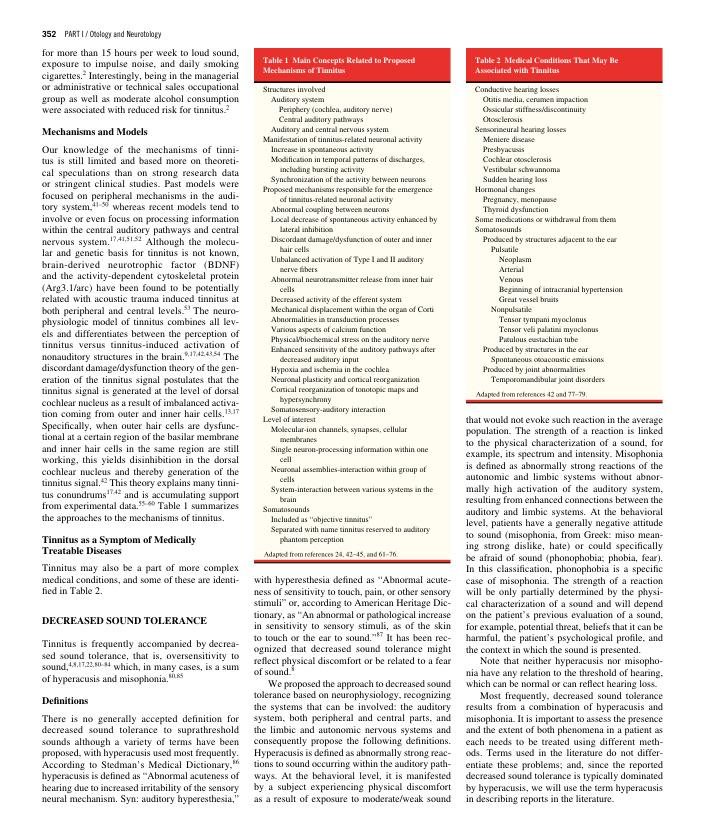caption: (262, 55, 417, 75), (474, 56, 619, 74)
header: (64, 29, 162, 40)
section-heading: (40, 615, 208, 627)
sub-section-heading: (40, 534, 197, 557), (41, 126, 149, 137), (41, 695, 89, 706)
table: (253, 81, 451, 562), (465, 81, 662, 402)
text: (465, 414, 664, 806), (40, 144, 240, 524), (253, 575, 452, 805), (41, 714, 241, 806), (40, 48, 240, 115), (41, 639, 241, 686), (40, 562, 241, 596)
